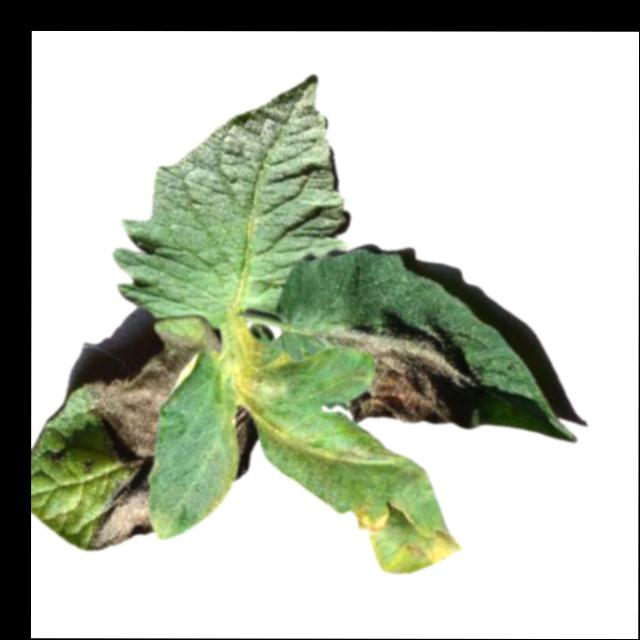Late_blight: (87, 332, 199, 551), (331, 321, 484, 431), (350, 498, 463, 575), (222, 335, 294, 419), (229, 402, 258, 481), (199, 321, 221, 355)
